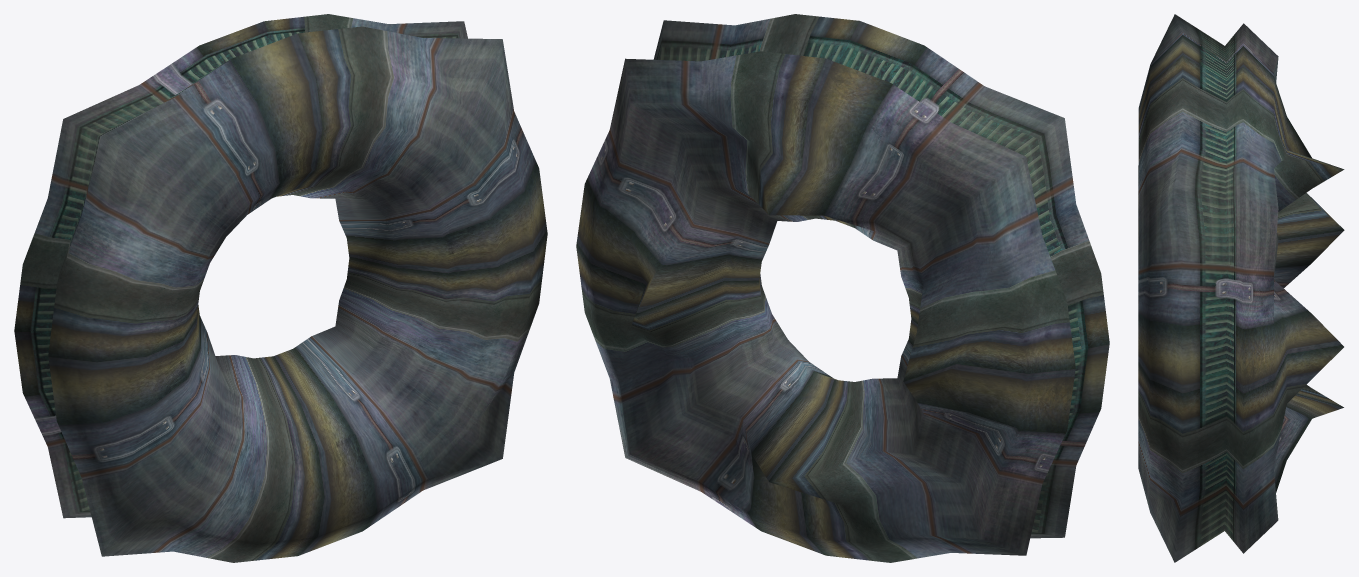
Rendered from playerbody.obj.
The picture shows the model from 3 angles, left to right: view 1: azimuth 30°, elevation 25°; view 2: azimuth 150°, elevation 25°; view 3: azimuth 270°, elevation 25°; orthographic projection. The views are drawn at different scales.
Visible parts, largest first — view 1: Torus001; view 2: Torus001; view 3: Torus001.
Boxes of the visible parts, bbox=[...] form: Torus001: bbox=[14, 14, 547, 562]; Torus001: bbox=[576, 14, 1109, 562]; Torus001: bbox=[1138, 14, 1344, 562].
Bounding box in the file's own units: 165 × 165 × 65.95.
